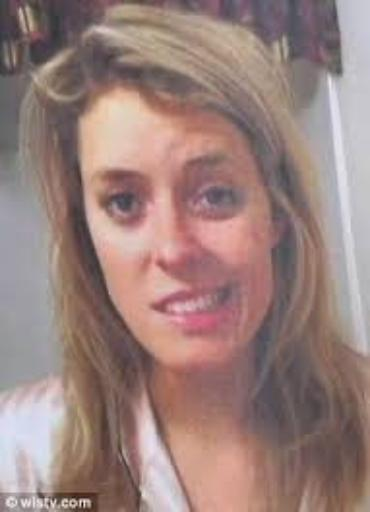left_eye: (194, 186, 247, 215)
left_lip_corner: (224, 278, 249, 298)
right_eye: (104, 190, 146, 219)
right_lip_corner: (147, 294, 164, 320)
